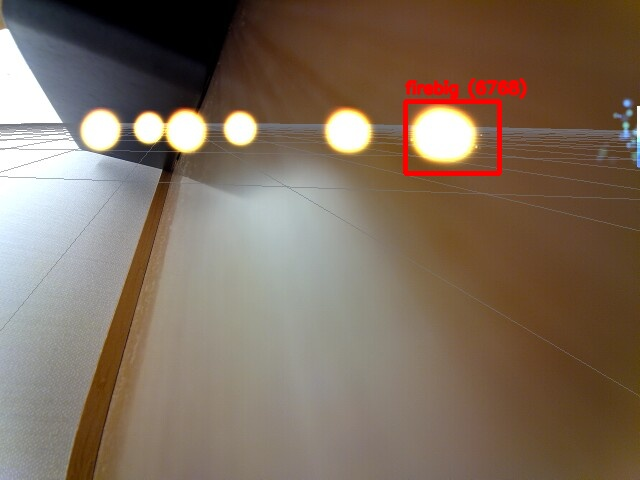firebig: (405, 101, 499, 173)
